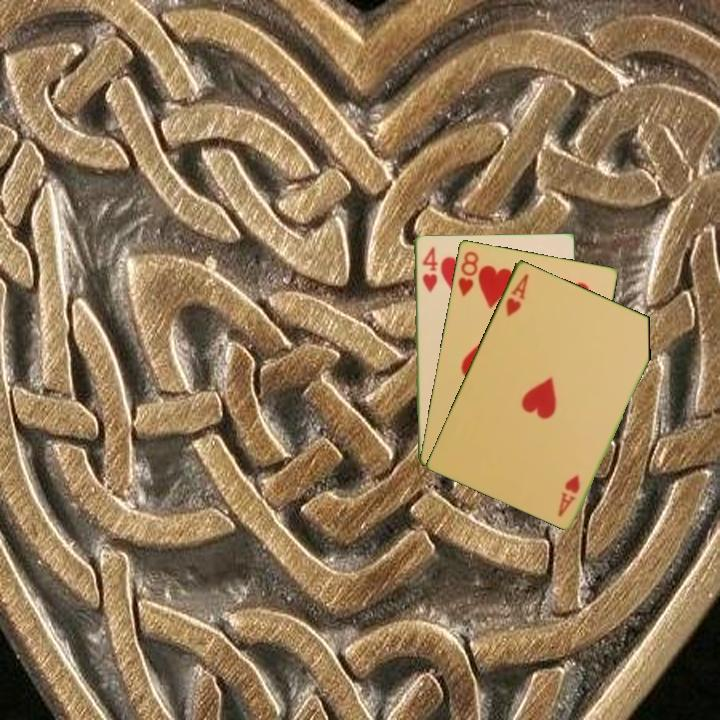4h: (418, 243, 439, 295)
8h: (454, 247, 481, 299)
Ah: (502, 270, 531, 319), (554, 471, 583, 519)
